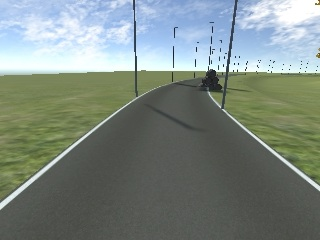strange_object: (197, 68, 222, 93)
